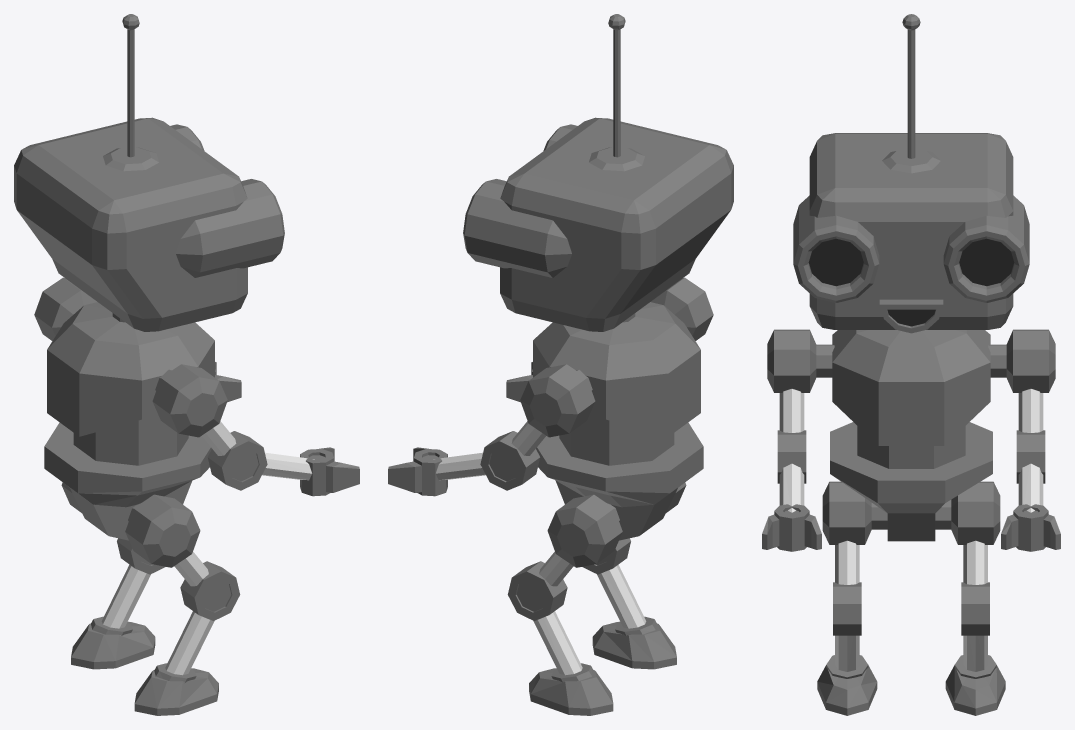
Rendered from testrobot.glb.
3 renders of one model, left to right at view 1: azimuth 30°, elevation 25°; view 2: azimuth 150°, elevation 25°; view 3: azimuth 270°, elevation 25°, orthographic.
Parts seen in each view (by area): view 1: Robot; view 2: Robot; view 3: Robot.
Boxes of the visible parts, x1,y1,x2,y2 form: Robot: [14, 14, 359, 715]; Robot: [388, 14, 733, 715]; Robot: [762, 14, 1060, 715].
Bounding box in the file's own units: 41.61 × 113 × 45.63.
Materials: 1 (1 with a texture image).
